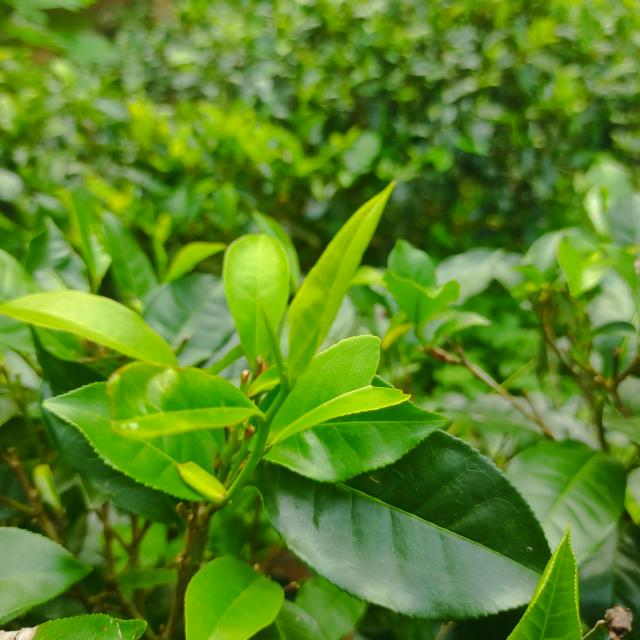unopened_leaf: (242, 292, 298, 390)
